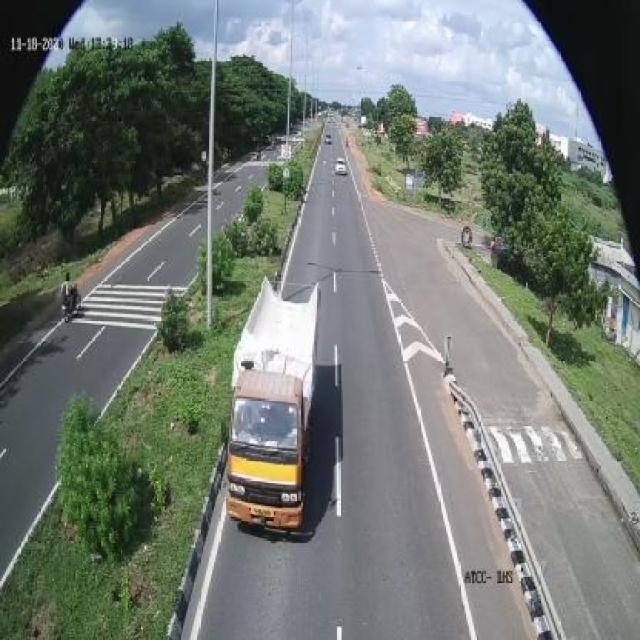truck: (222, 279, 322, 529)
